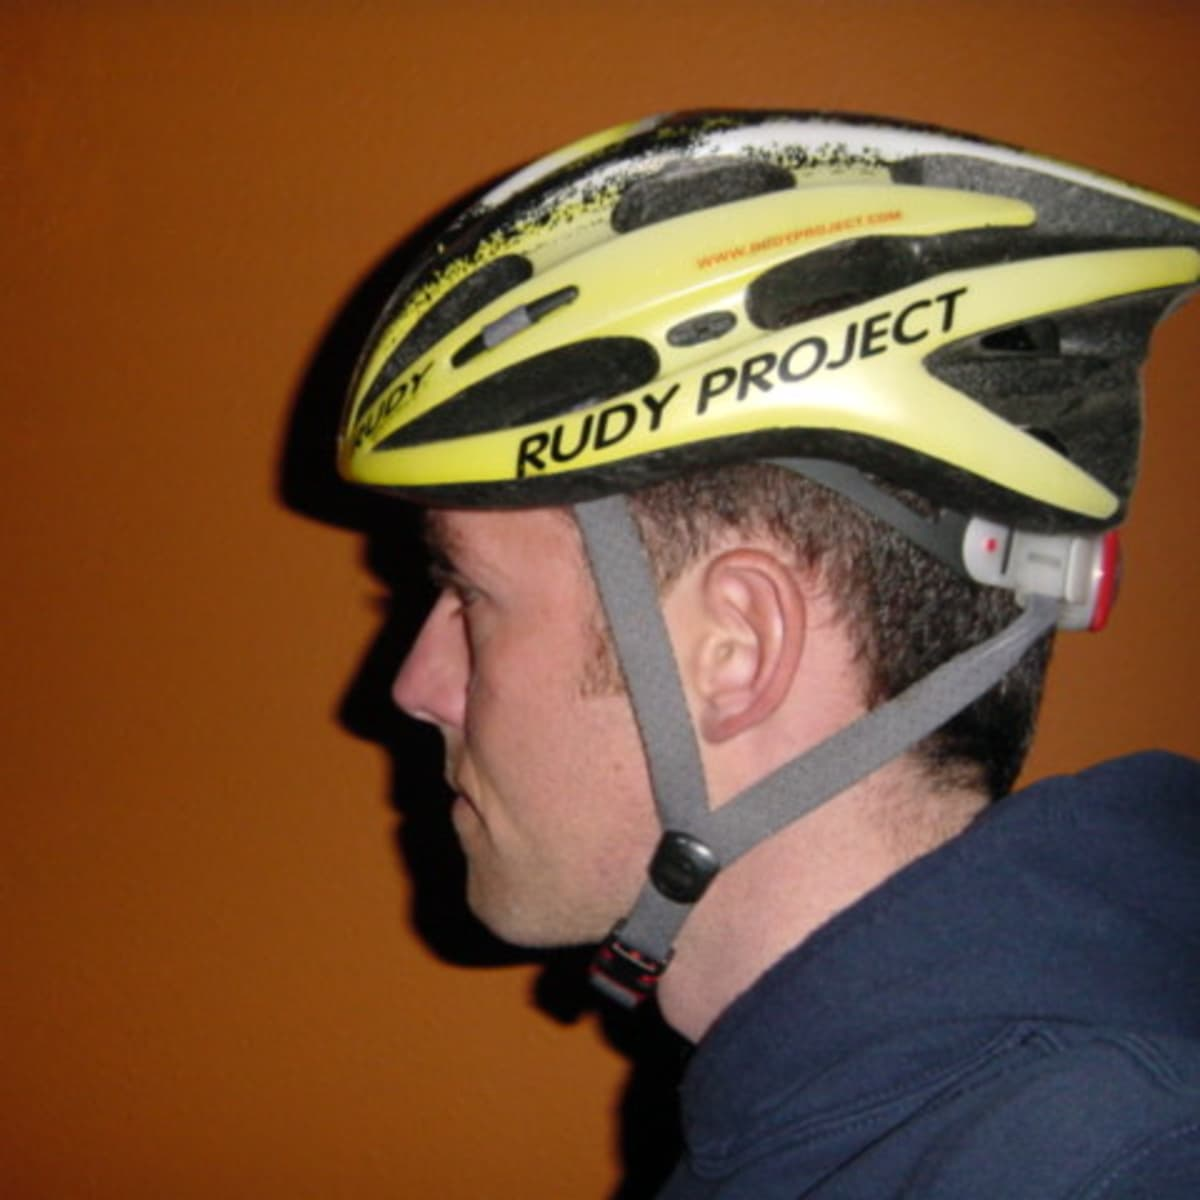helmet: (336, 111, 1200, 1005)
